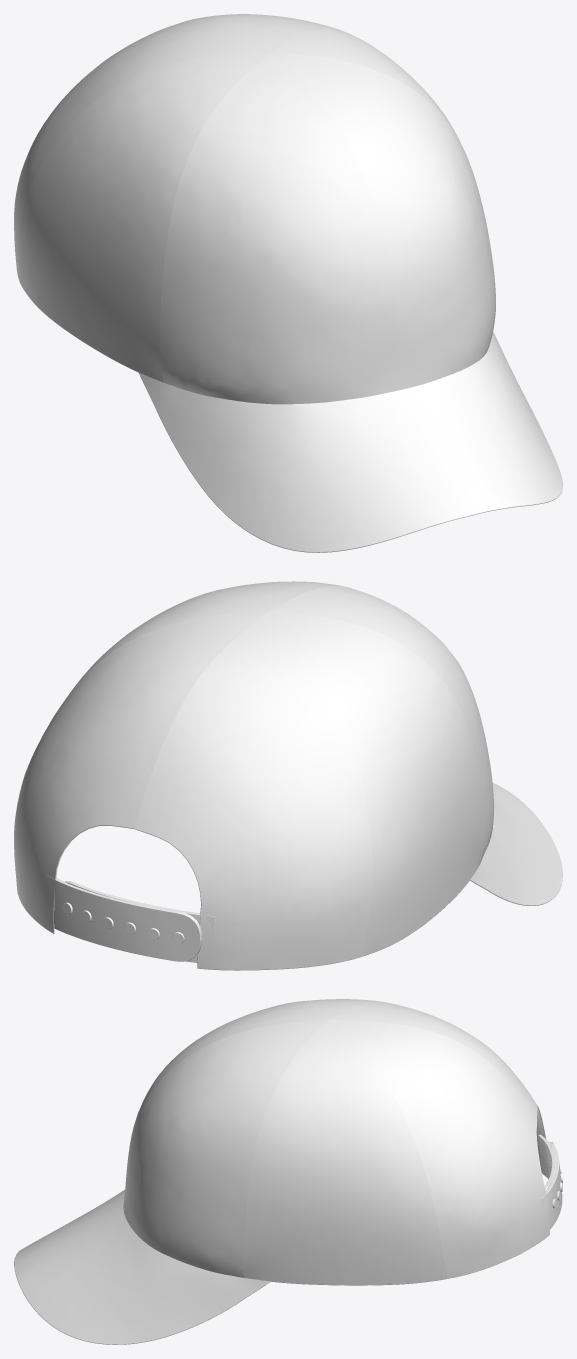
The model's file is modelo.glb.
3 views of the same model, one above another, from view 1: azimuth 30°, elevation 25°; view 2: azimuth 150°, elevation 25°; view 3: azimuth 270°, elevation 25° (orthographic). The views are drawn at different scales.
Visible parts, largest first — view 1: Cloth; view 2: Cloth; view 3: Cloth.
Boxes of the visible parts, x1,y1,x2,y2 form: Cloth: [14, 14, 562, 552]; Cloth: [14, 581, 562, 970]; Cloth: [14, 999, 562, 1344].
Size of the model in its own units: 0.1577 by 0.1436 by 0.2626.
3 materials, 3 textured.
